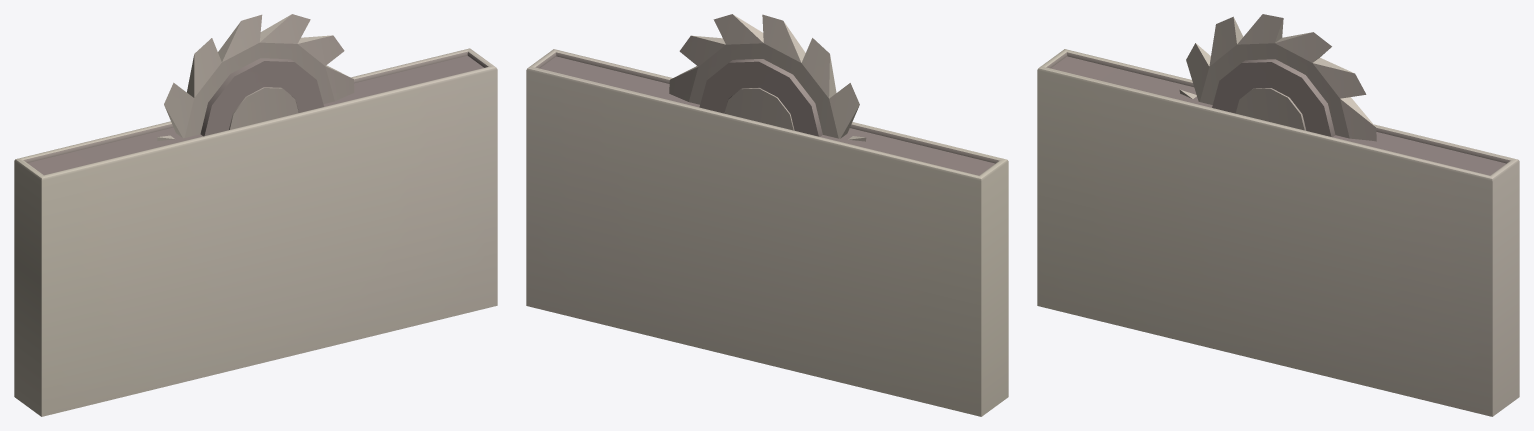
Rendered from rotating_saw.fbx.
3 renders of one model, left to right at view 1: azimuth 30°, elevation 25°; view 2: azimuth 150°, elevation 25°; view 3: azimuth 330°, elevation 25°, orthographic.
Parts seen in each view (by area): view 1: rotating_sawCube, rotating_saw; view 2: rotating_sawCube, rotating_saw; view 3: rotating_sawCube, rotating_saw.
Part boxes in pixels (x1,y1,x2,y2): rotating_sawCube: (14,48,497,416); rotating_saw: (157,14,354,140); rotating_sawCube: (526,49,1008,416); rotating_saw: (669,14,866,141); rotating_sawCube: (1037,49,1519,416); rotating_saw: (1179,14,1376,141).
Size of the model in its own units: 400 by 281 by 41.48.
